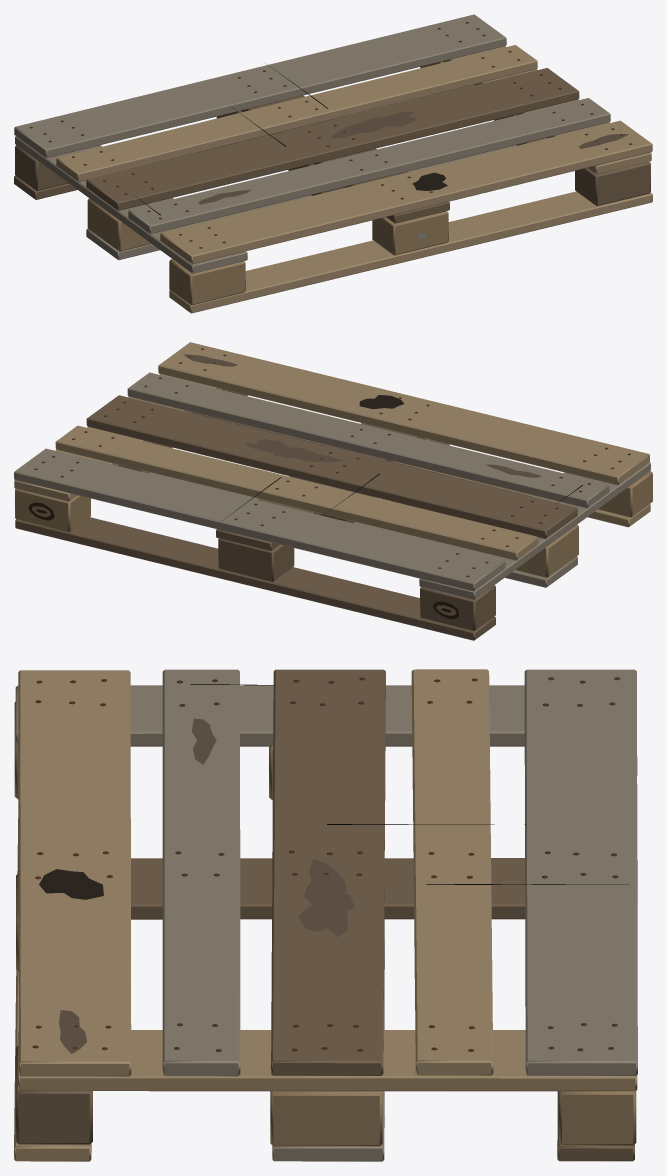
The model's file is pallet.glb.
3 views of the same model, one above another, from view 1: azimuth 30°, elevation 25°; view 2: azimuth 150°, elevation 25°; view 3: azimuth 270°, elevation 25° (orthographic). The views are drawn at different scales.
Visible parts, largest first — view 1: palette0, palette1, palette2, palette3, palette8, palette4, palette9; view 2: palette1, palette0, palette2, palette3, palette8, palette4, palette6, palette9; view 3: palette0, palette1, palette2, palette3, palette8, palette4, palette9.
Boxes of the visible parts, x1,y1,x2,y2 form: palette0: [56, 45, 652, 313]; palette1: [14, 14, 610, 273]; palette2: [14, 68, 650, 223]; palette3: [87, 61, 546, 305]; palette8: [198, 112, 628, 204]; palette4: [29, 22, 632, 248]; palette9: [412, 172, 447, 190]; palette1: [14, 372, 650, 599]; palette0: [14, 342, 650, 560]; palette2: [15, 389, 577, 640]; palette3: [15, 438, 652, 615]; palette8: [184, 354, 541, 477]; palette4: [34, 348, 630, 577]; palette6: [28, 502, 458, 619]; palette9: [359, 395, 403, 409]; palette0: [14, 669, 637, 1161]; palette1: [15, 669, 637, 1161]; palette2: [15, 669, 637, 1161]; palette3: [14, 702, 636, 1146]; palette8: [59, 718, 354, 1053]; palette4: [32, 677, 620, 1051]; palette9: [39, 869, 103, 899].
Bounding box in the file's own units: 1.21 × 0.1452 × 0.8255.
